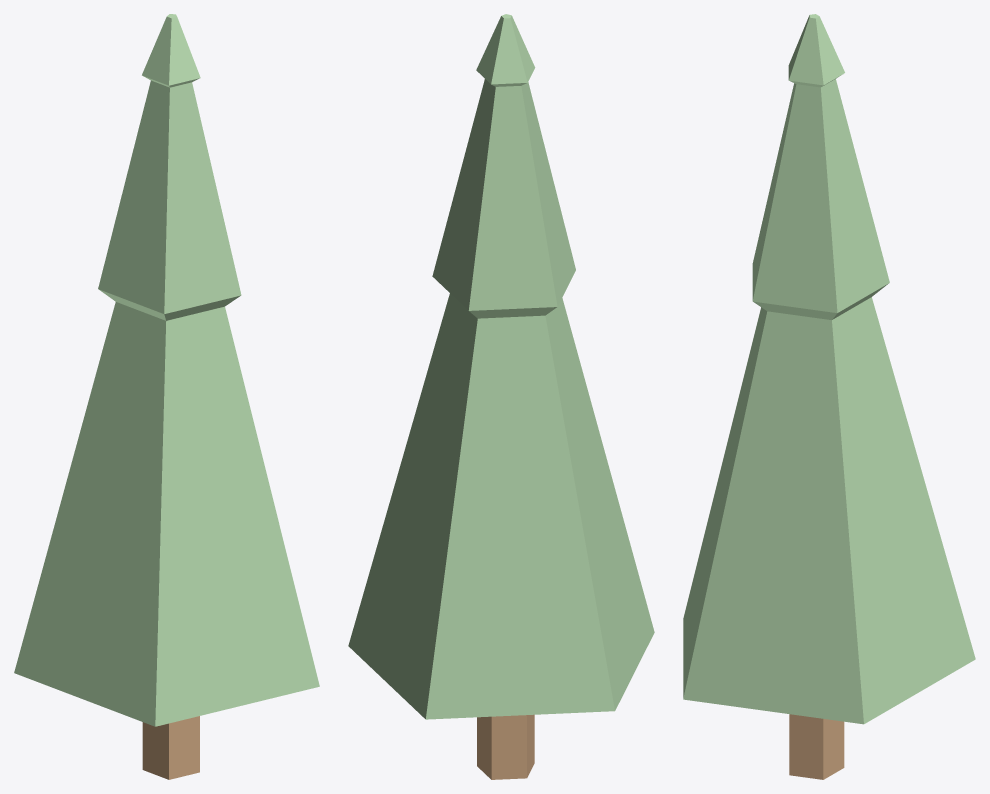
The model's file is ArbolTres.fbx.
3 views of the same model, side by side, from view 1: azimuth 30°, elevation 25°; view 2: azimuth 150°, elevation 25°; view 3: azimuth 270°, elevation 25° (orthographic).
Parts seen in each view (by area): view 1: ArbolTres; view 2: ArbolTres; view 3: ArbolTres.
Part boxes in pixels (bbox=[...]): ArbolTres: bbox=[14, 14, 319, 779]; ArbolTres: bbox=[348, 14, 654, 779]; ArbolTres: bbox=[683, 14, 975, 779].
Size of the model in its own units: 563 by 1518 by 536.
